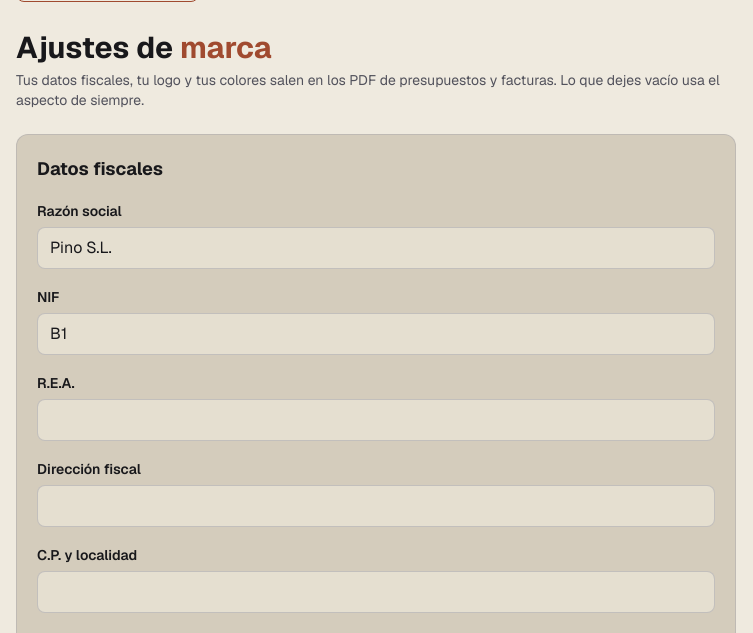
Test: Ajustes de marca con negocio real › guarda con PATCH incluyendo el negocio y los campos editados
The width and height of the screenshot is (753, 633).
Expected: the field labelled "Razón social" holds "Pino S.L.", top-left (37, 227), bottom-right (715, 269)
Replace the text in the field labelled "NIF" with "B999" at (376, 334), box top-left (37, 313), bottom-right (715, 355)
(page scrolled)
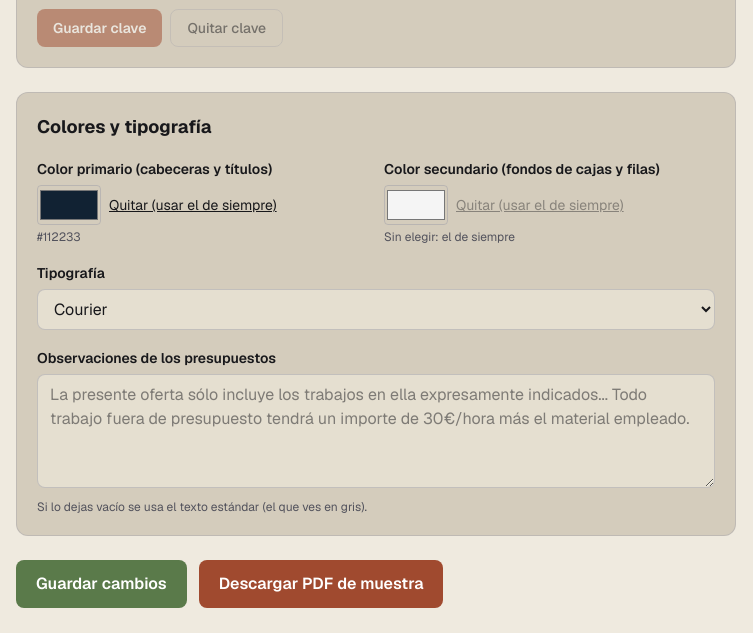
Click the button "Guardar cambios" at (101, 584), box top-left (16, 560), bottom-right (187, 608)
(page scrolled)
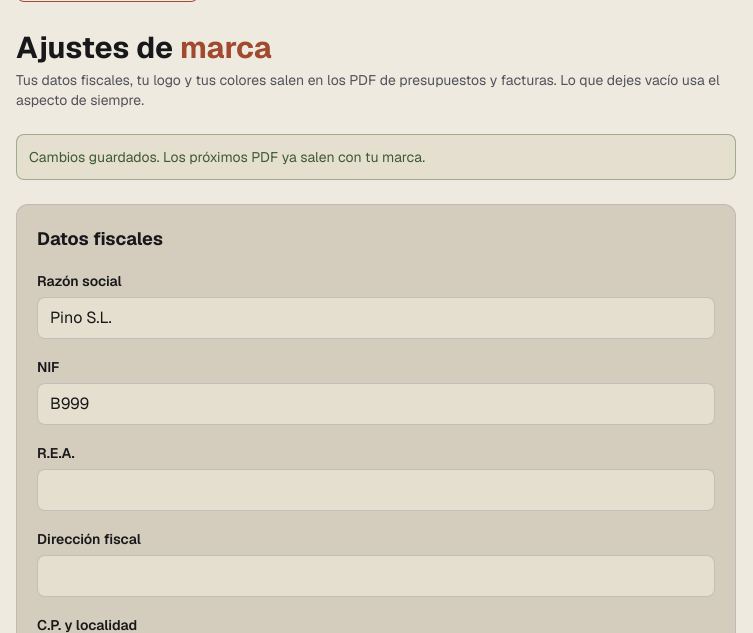
Expected: the text "Cambios guardados. Los próximos PDF ya salen con tu marca." is shown, top-left (16, 134), bottom-right (736, 180)
